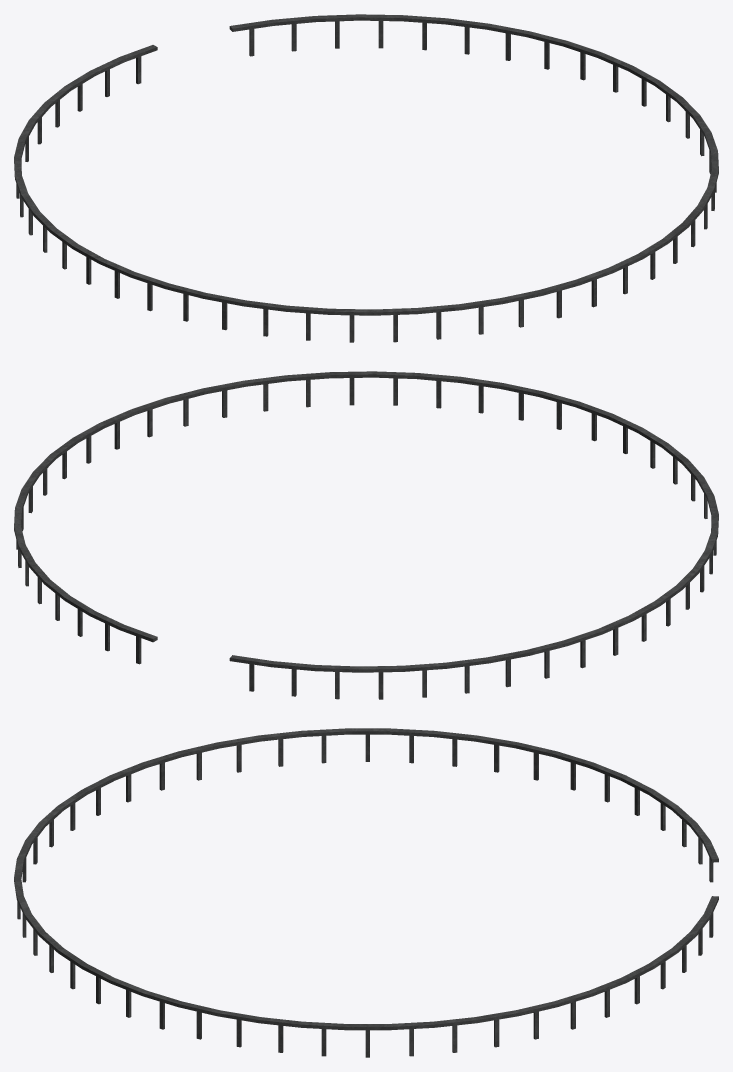
Rendered from Courtyard_railing.glb.
The picture shows the model from 3 angles, top to bottom: view 1: azimuth 30°, elevation 25°; view 2: azimuth 150°, elevation 25°; view 3: azimuth 270°, elevation 25°; orthographic projection.
Parts seen in each view (by area): view 1: Courtyard railing; view 2: Courtyard railing; view 3: Courtyard railing.
Boxes of the visible parts, <box> form: Courtyard railing: <box>14,14,718,342</box>; Courtyard railing: <box>14,371,718,699</box>; Courtyard railing: <box>14,728,718,1057</box>.
Size of the model in its own units: 29.54 by 1.45 by 29.48.
1 material, 1 textured.
